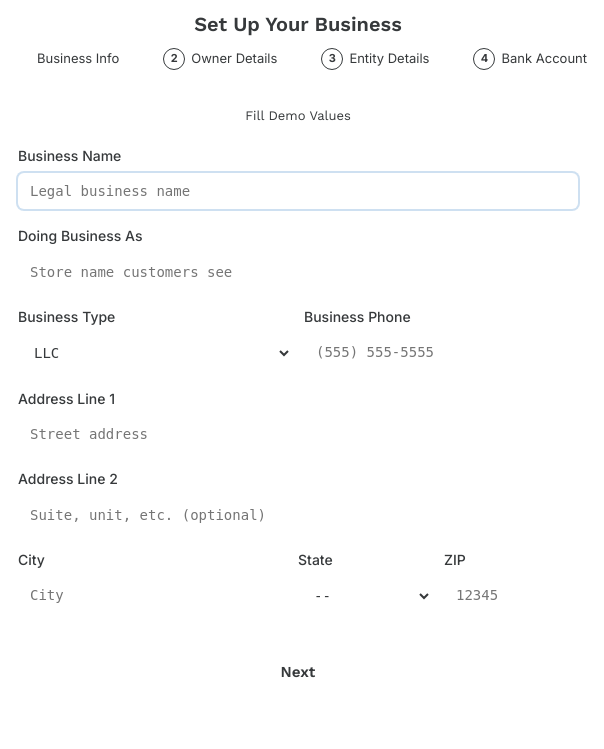
Test: BusinessSetupScreen › shows business-step validation errors
This screenshot has width=604, height=749.
(page scrolled)
What coordinates should you click on to do the following:
click the button "Next"
I would click on:
 (298, 672)
Its box is [18,651,578,693].
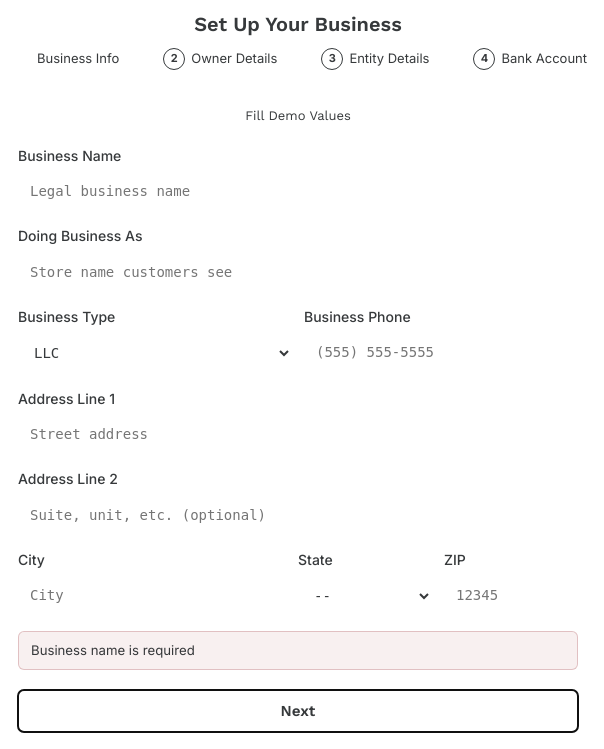
Expected: the text "Business name is required" is shown, [18,631,578,670]
